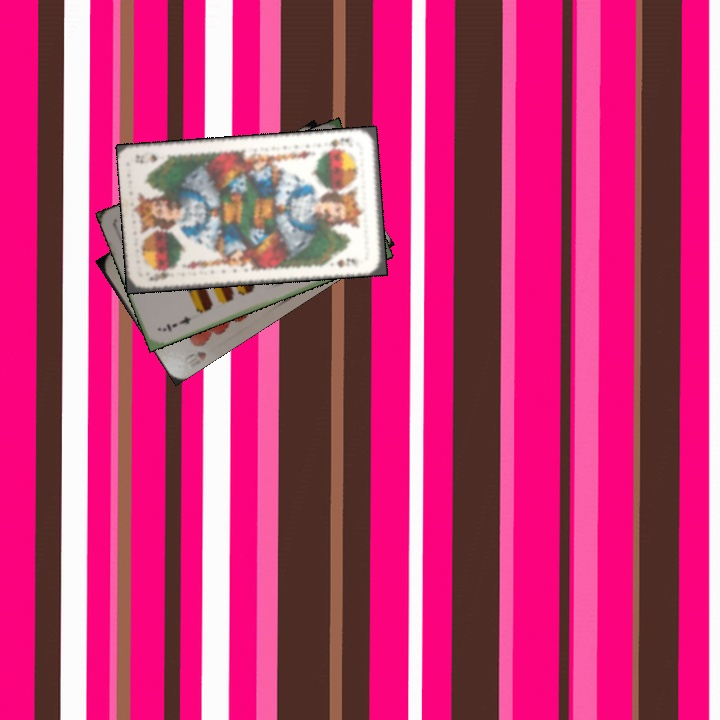E7: (158, 312, 193, 334)
H10: (180, 347, 209, 370)
SK: (321, 133, 352, 153), (145, 266, 171, 284)
